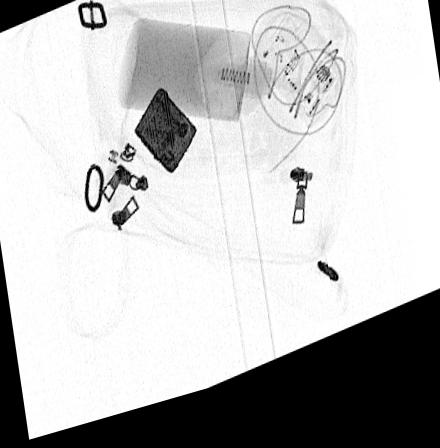Lighter: (133, 96, 196, 185)
